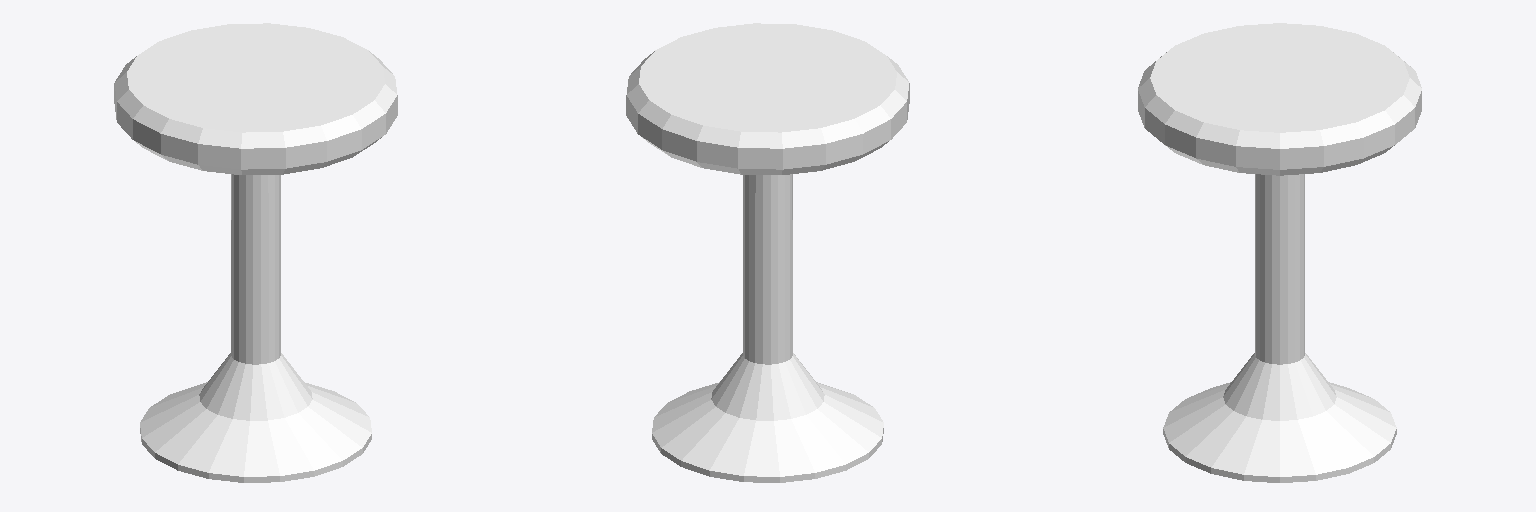
File: BarStool.obj
The picture shows the model from 3 angles: view 1: azimuth 30°, elevation 25°; view 2: azimuth 150°, elevation 25°; view 3: azimuth 270°, elevation 25°; orthographic projection.
Visible parts, largest first — view 1: HiMesh; view 2: HiMesh; view 3: HiMesh.
Boxes of the visible parts, x1,y1,x2,y2 form: HiMesh: [114, 23, 397, 482]; HiMesh: [626, 23, 909, 482]; HiMesh: [1138, 23, 1421, 482].
Size of the model in its own units: 0.6167 by 0.8513 by 0.6167.